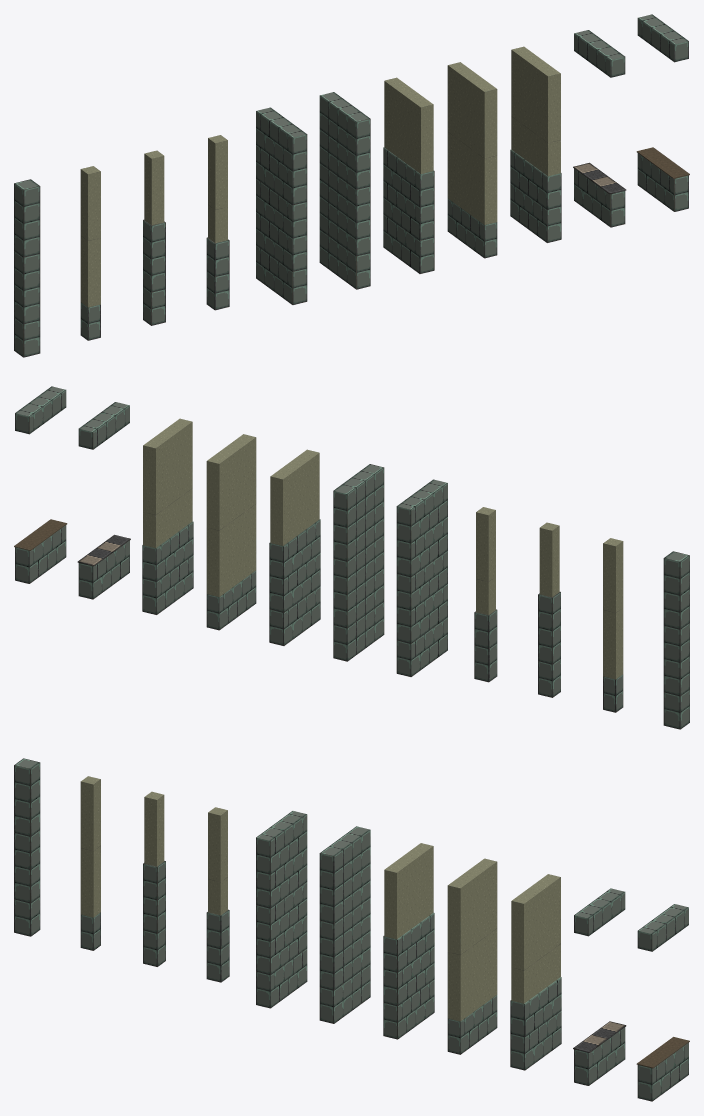
File: obj_wall_1x2m_v3.fbx
3 views of the same model, one above another, from view 1: azimuth 30°, elevation 25°; view 2: azimuth 150°, elevation 25°; view 3: azimuth 330°, elevation 25° (orthographic).
Visible parts, largest first — view 1: obj_wall_1x2m_v1, obj_wall_1x2m_v5, obj_wall_1x2m_v2, obj_wall_1x2m_v3, obj_wall_1x2m_v4, obj_pillar_2m_v1, obj_wallOpen_1x2m_v1, obj_wallOpen_1x2m_v2, obj_pillar_2m_v3, obj_pillar_2m_v4, obj_pillar_2m_v2; view 2: obj_wall_1x2m_v1, obj_wall_1x2m_v5, obj_wall_1x2m_v2, obj_wall_1x2m_v3, obj_wall_1x2m_v4, obj_pillar_2m_v1, obj_wallOpen_1x2m_v1, obj_wallOpen_1x2m_v2, obj_pillar_2m_v3, obj_pillar_2m_v4, obj_pillar_2m_v2; view 3: obj_wall_1x2m_v1, obj_wall_1x2m_v5, obj_wall_1x2m_v2, obj_wall_1x2m_v3, obj_wall_1x2m_v4, obj_pillar_2m_v1, obj_wallOpen_1x2m_v1, obj_wallOpen_1x2m_v2, obj_pillar_2m_v3, obj_pillar_2m_v4, obj_pillar_2m_v2.
Boxes of the visible parts, box(x1,y1,x2,y2) form: obj_wall_1x2m_v1: box(256, 107, 307, 304); obj_wall_1x2m_v5: box(319, 92, 370, 289); obj_wall_1x2m_v2: box(383, 77, 434, 273); obj_wall_1x2m_v3: box(510, 46, 561, 242); obj_wall_1x2m_v4: box(447, 62, 497, 258); obj_pillar_2m_v1: box(14, 179, 40, 357); obj_wallOpen_1x2m_v1: box(573, 30, 626, 227); obj_wallOpen_1x2m_v2: box(636, 14, 689, 211); obj_pillar_2m_v3: box(143, 150, 165, 325); obj_pillar_2m_v4: box(206, 135, 229, 310); obj_pillar_2m_v2: box(80, 166, 100, 340); obj_wall_1x2m_v1: box(396, 479, 447, 676); obj_wall_1x2m_v5: box(333, 464, 384, 661); obj_wall_1x2m_v2: box(269, 449, 320, 645); obj_wall_1x2m_v3: box(142, 418, 193, 614); obj_wall_1x2m_v4: box(206, 434, 256, 630); obj_pillar_2m_v1: box(663, 551, 689, 729); obj_wallOpen_1x2m_v1: box(77, 402, 130, 599); obj_wallOpen_1x2m_v2: box(14, 386, 67, 583); obj_pillar_2m_v3: box(538, 522, 560, 697); obj_pillar_2m_v4: box(474, 507, 497, 682); obj_pillar_2m_v2: box(603, 538, 623, 712); obj_wall_1x2m_v1: box(256, 811, 307, 1008); obj_wall_1x2m_v5: box(319, 826, 370, 1023); obj_wall_1x2m_v2: box(383, 843, 434, 1039); obj_wall_1x2m_v3: box(510, 874, 561, 1070); obj_wall_1x2m_v4: box(447, 858, 497, 1054); obj_pillar_2m_v1: box(14, 758, 40, 936); obj_wallOpen_1x2m_v1: box(573, 888, 626, 1085); obj_wallOpen_1x2m_v2: box(636, 904, 689, 1101); obj_pillar_2m_v3: box(143, 791, 165, 966); obj_pillar_2m_v4: box(206, 807, 229, 982); obj_pillar_2m_v2: box(80, 776, 100, 950).
Bounding box in the file's own units: 1026 × 252 × 100.
